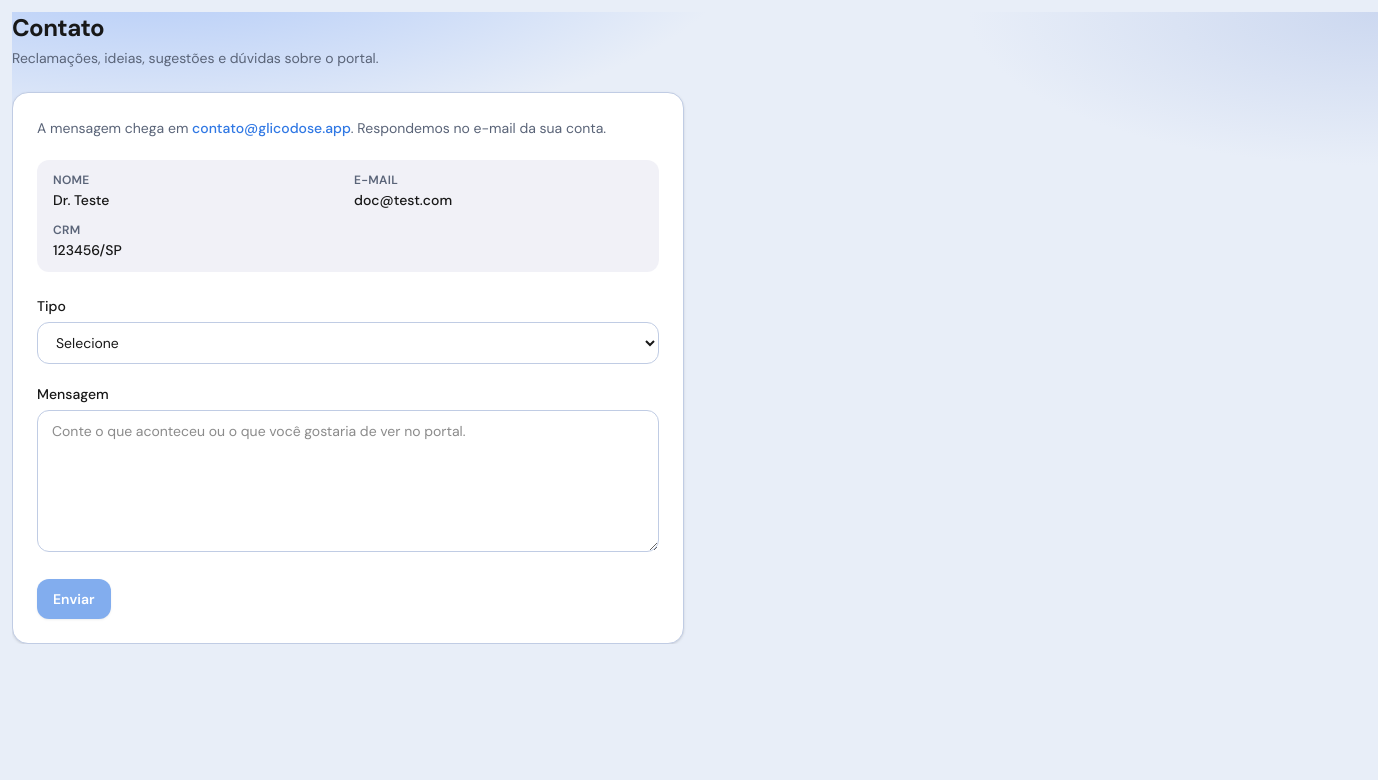
Test: ContactPage › shows a spinner while the message is sending
Select "Dúvida" in the dropdown labelled "Tipo" at (348, 343), box [37,322,659,364]
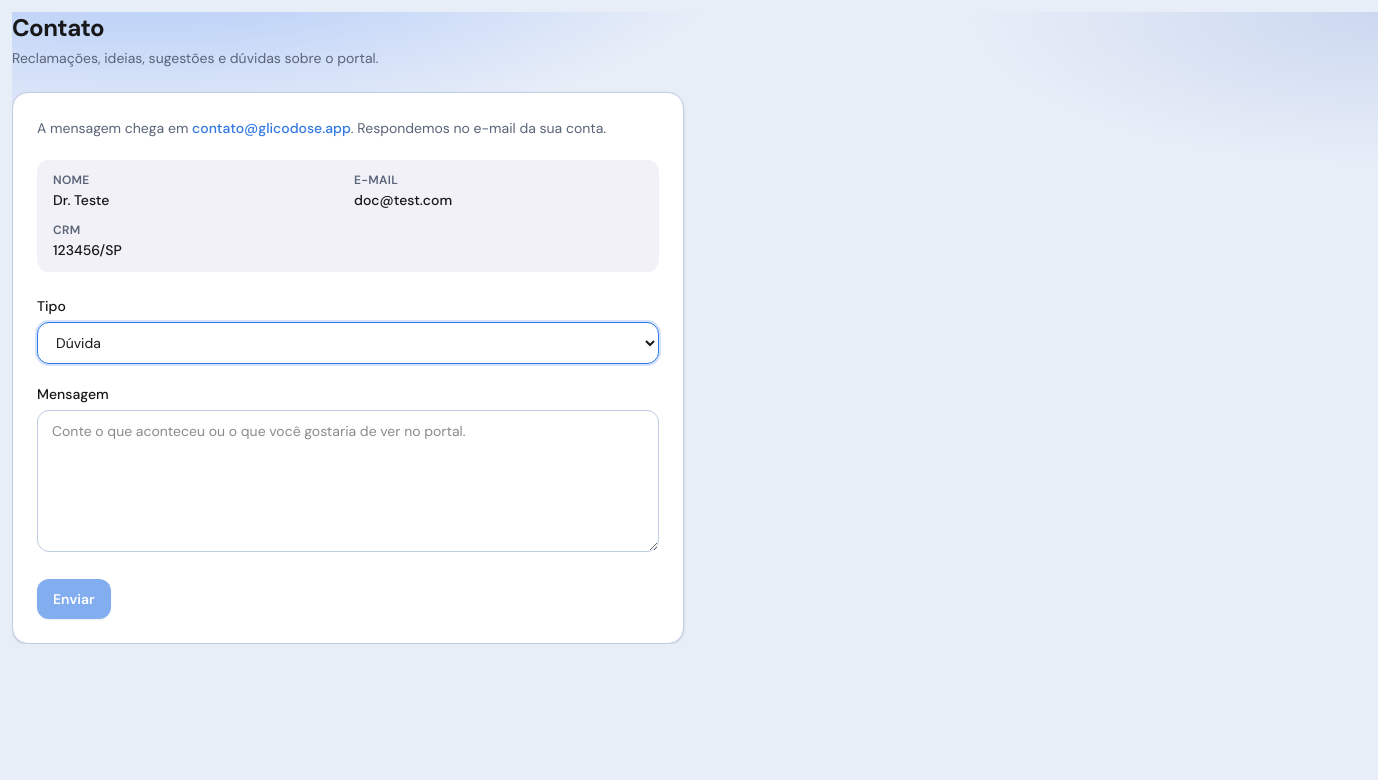
Type "Como vinculo um paciente?" into the text box labelled "Mensagem" at (348, 481), box [37,410,659,552]
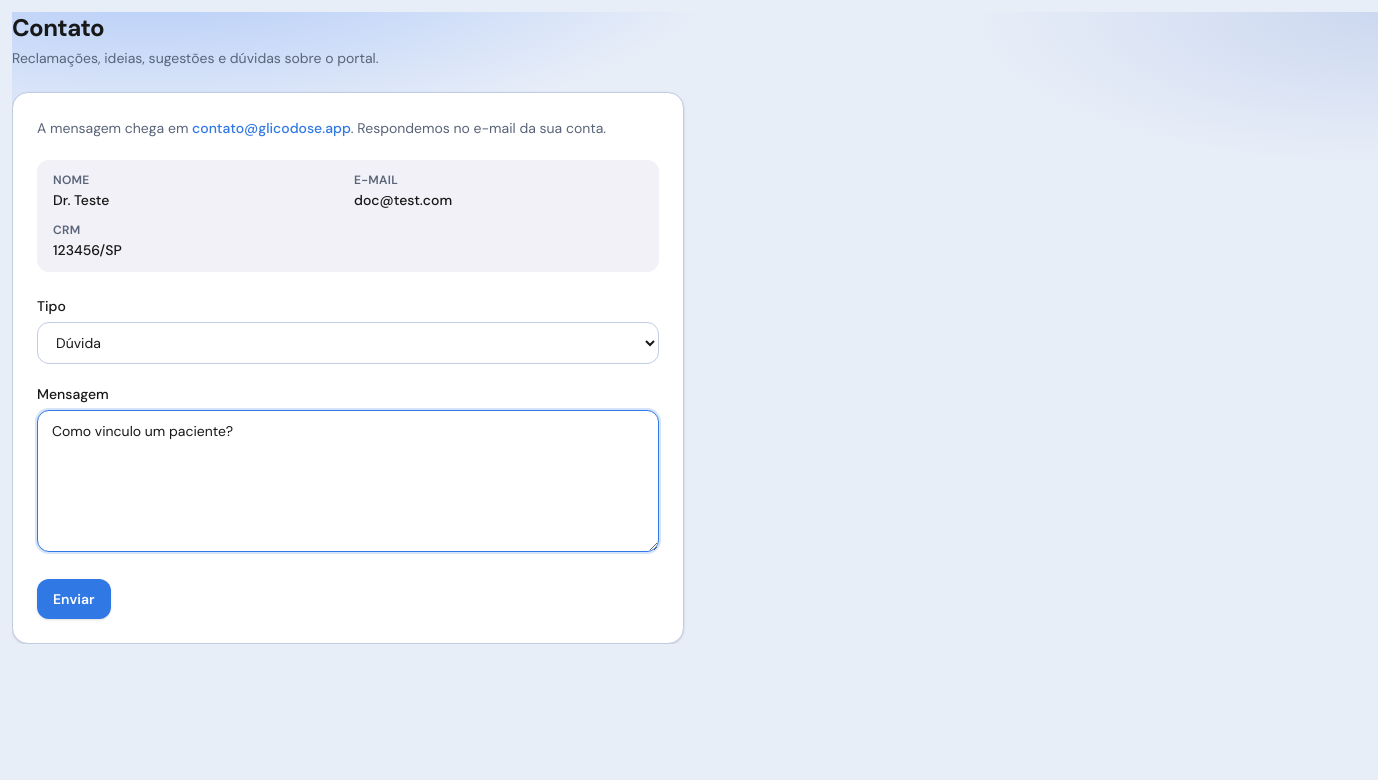
Click the button "Enviar" at (74, 599), box [37,579,110,619]
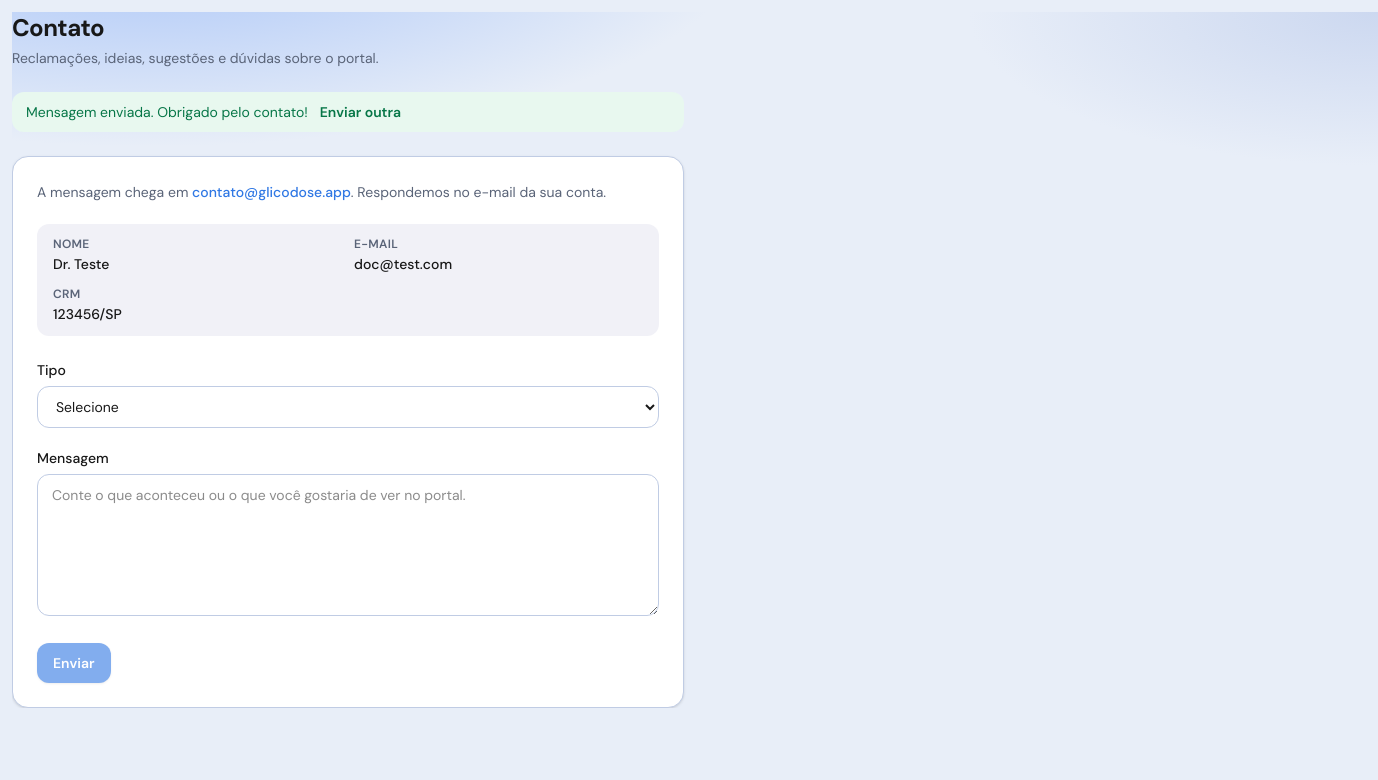
Check: the button "Enviar" is disabled, box [37,643,110,683]
Check: the text "Mensagem enviada. Obrigado pelo contato! Enviar outra" is shown, box [26,102,401,122]
